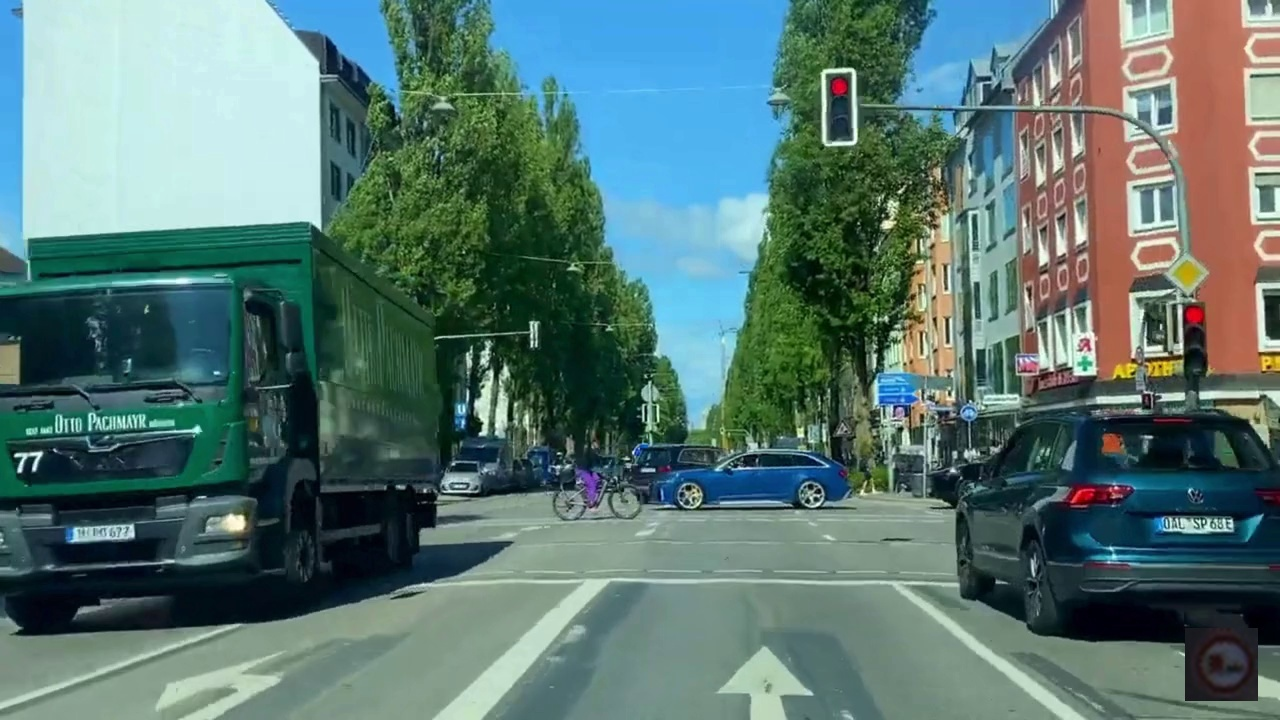No pass >3.5t: (1185, 628, 1258, 701)
